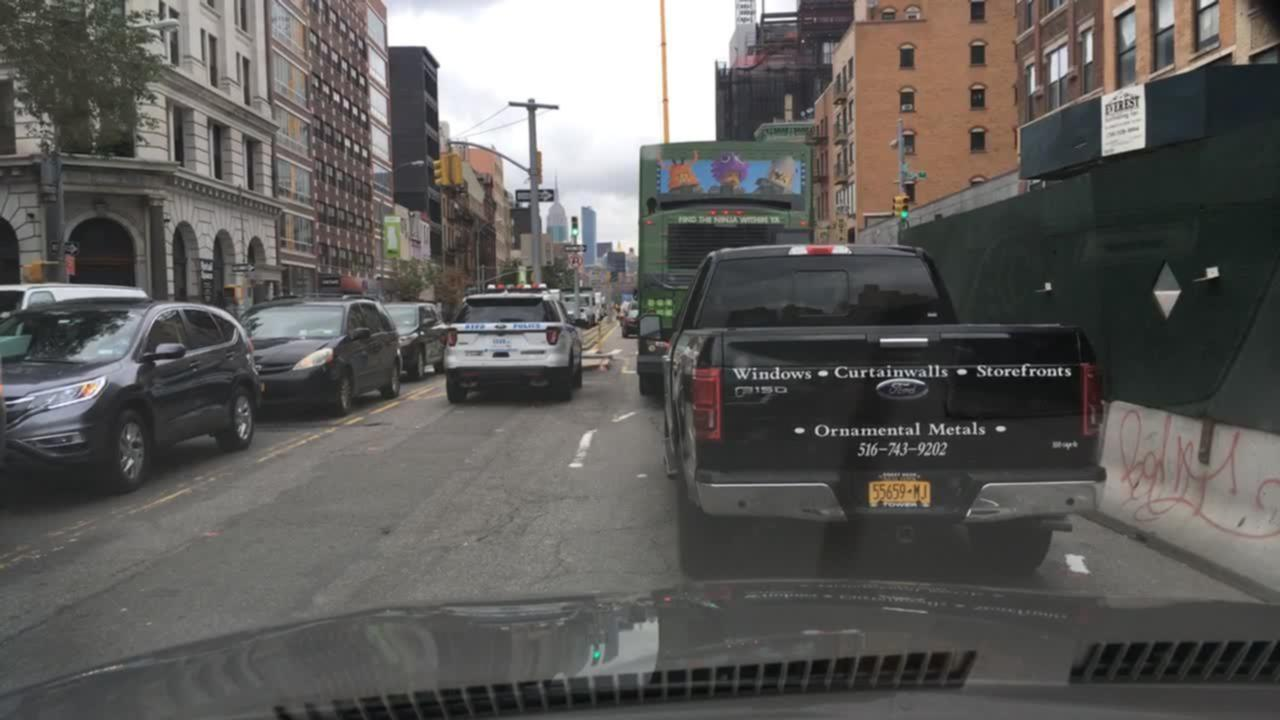ford: (878, 371, 932, 403)
